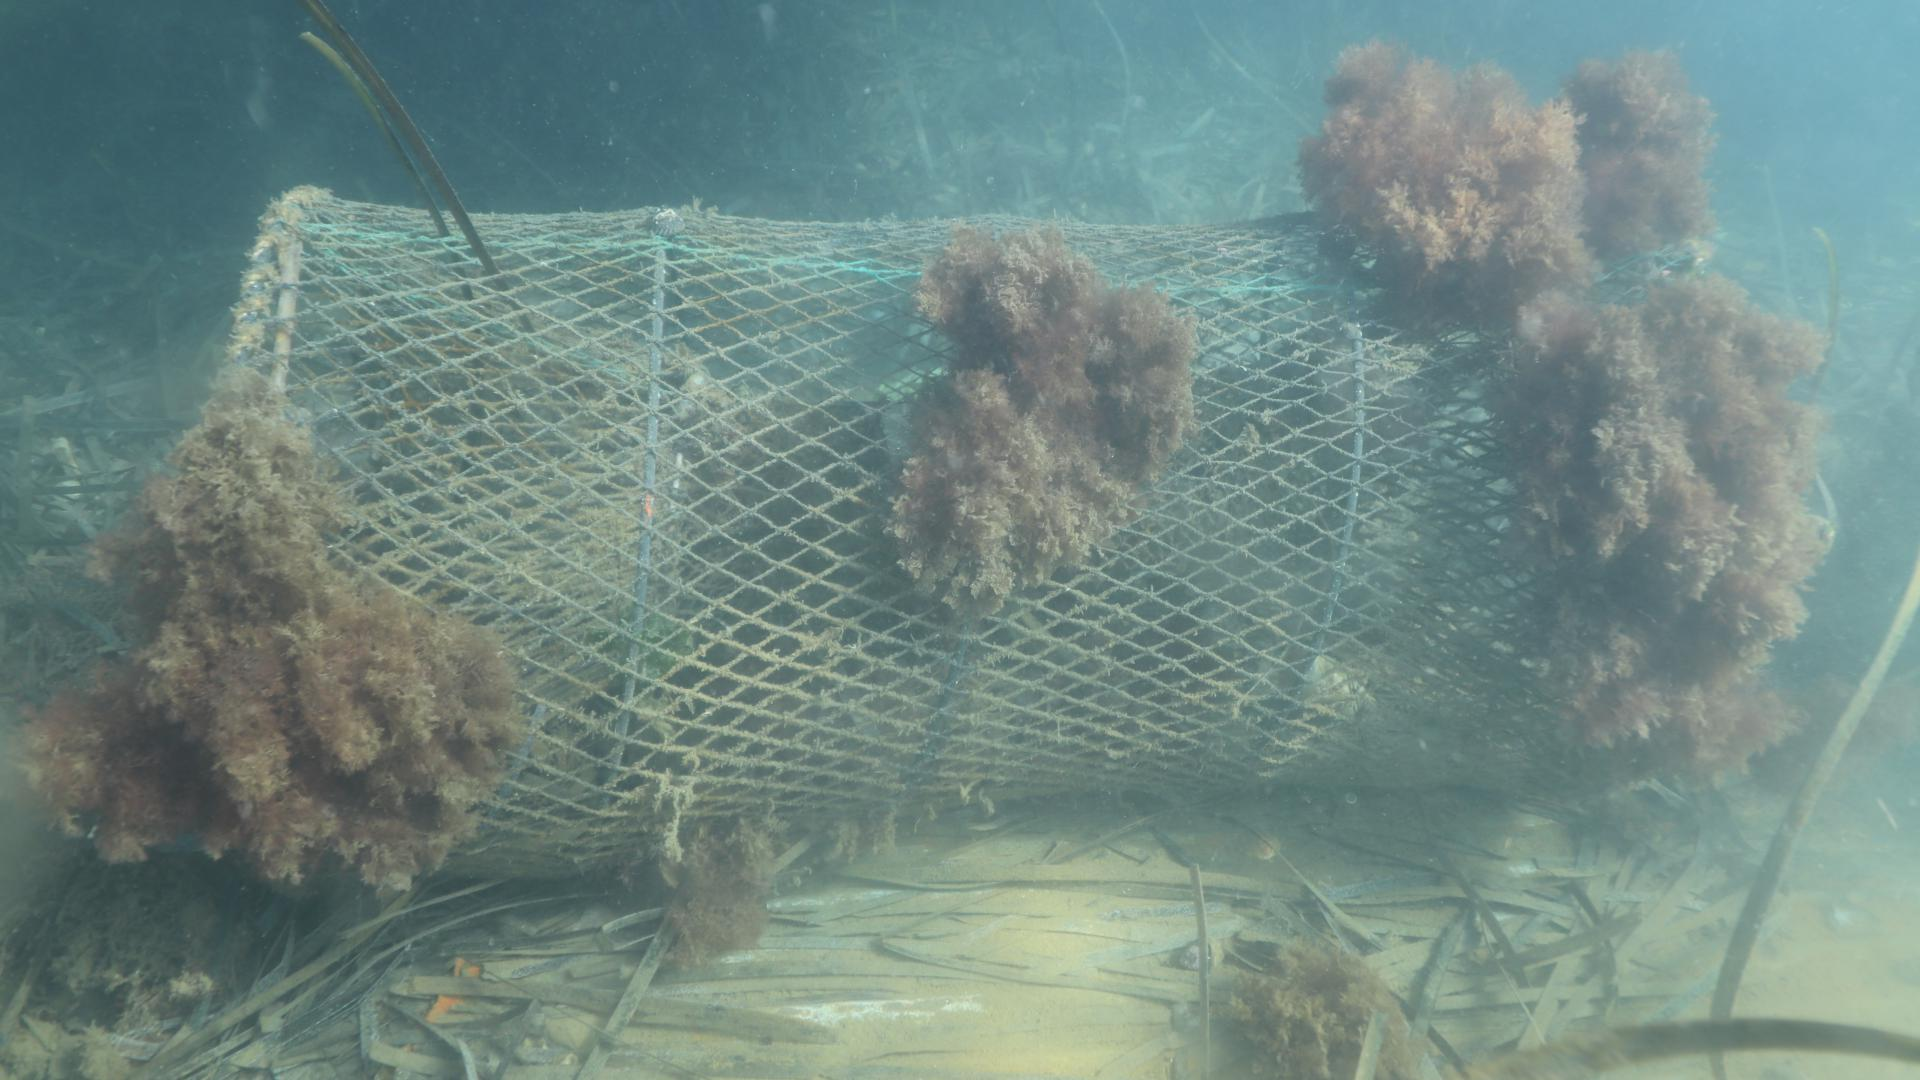spring fish trap: (214, 183, 1721, 878)
